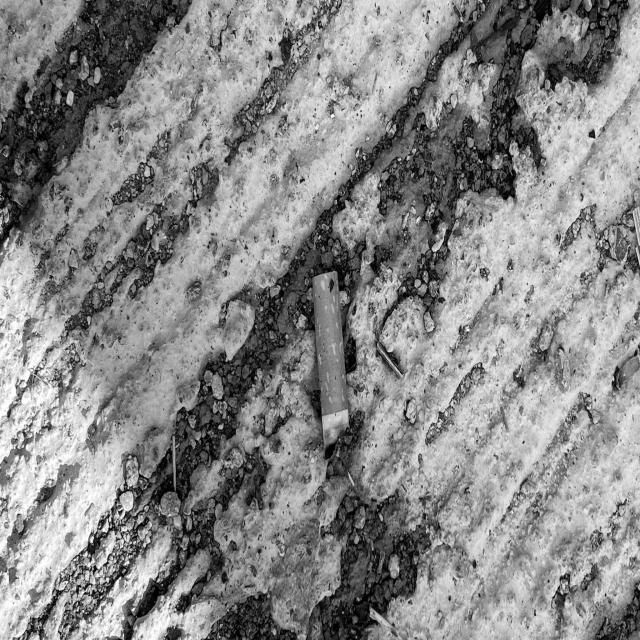other waste: (310, 268, 359, 464)
